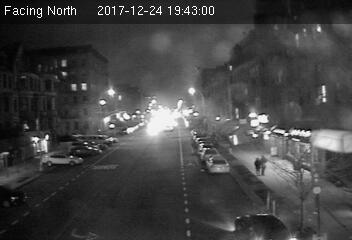car: (235, 206, 298, 240), (206, 154, 231, 176)
pedestrian: (253, 157, 261, 177)
